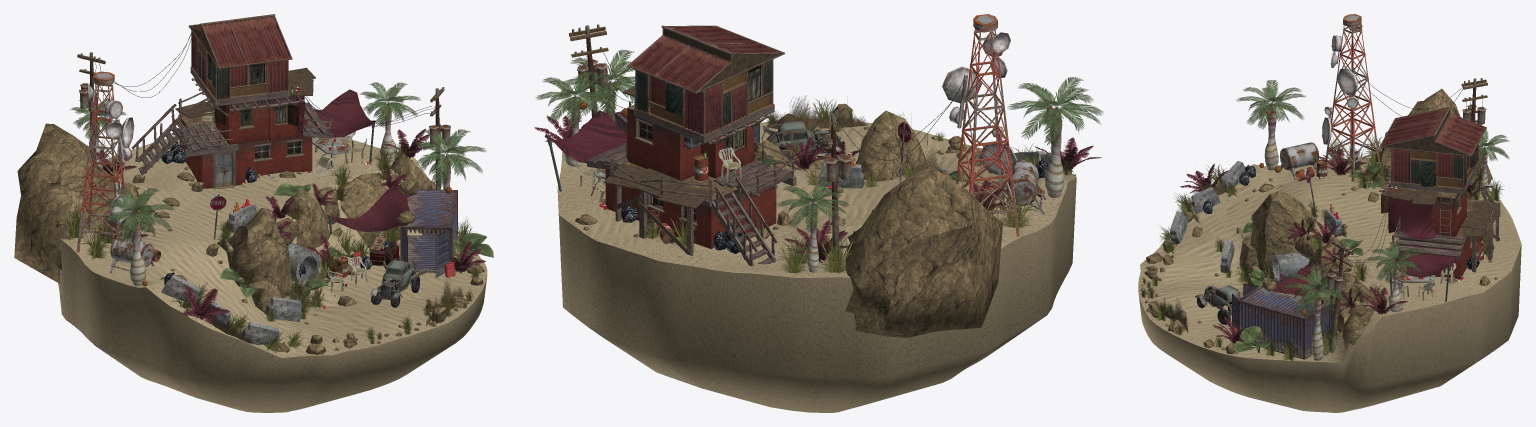
3 renders of one model, left to right at view 1: azimuth 30°, elevation 25°; view 2: azimuth 150°, elevation 25°; view 3: azimuth 270°, elevation 25°, orthographic. The views are drawn at different scales.
Parts seen in each view (by area): view 1: SM_Ground, SM_House, SM_Stone6, SM_RadioTower, SM_ShippingContainer, SM_Stone2, SM_PalmTree4, SM_PalmTree2, SM_Stone4, SM_PalmTree1, SM_Tarp, SM_Stone3 (+16 smaller); view 2: SM_Ground, SM_House, SM_Stone6, SM_RadioTower, SM_PalmTree4, SM_Stone2, SM_PalmTree1, SM_PalmTree3, SM_PalmTree2, SM_Car, SM_ElectricityPost1, SM_ElectricityPost (+6 smaller); view 3: SM_Ground, SM_House, SM_ShippingContainer, SM_RadioTower, SM_Stone2, SM_PalmTree4, SM_PalmTree2, SM_PalmTree1, SM_Stone6, SM_Car, SM_ElectricityPost, SM_OilTank (+14 smaller).
Part boxes in pixels (<box>): SM_Ground: <box>58,135,487,412</box>; SM_House: <box>131,14,376,189</box>; SM_Stone6: <box>14,123,119,283</box>; SM_RadioTower: <box>76,71,134,252</box>; SM_ShippingContainer: <box>400,189,457,277</box>; SM_Stone2: <box>227,208,290,297</box>; SM_PalmTree4: <box>102,187,175,285</box>; SM_PalmTree2: <box>411,129,486,189</box>; SM_Stone4: <box>332,172,400,247</box>; SM_PalmTree1: <box>360,82,420,159</box>; SM_Tarp: <box>325,187,410,235</box>; SM_Stone3: <box>287,189,329,250</box>; SM_Ground: <box>557,119,1076,412</box>; SM_House: <box>545,25,799,266</box>; SM_Stone6: <box>845,168,1002,337</box>; SM_RadioTower: <box>942,14,1019,236</box>; SM_PalmTree4: <box>1007,77,1103,197</box>; SM_Stone2: <box>855,110,927,181</box>; SM_PalmTree1: <box>535,70,614,166</box>; SM_PalmTree3: <box>776,180,849,272</box>; SM_PalmTree2: <box>563,49,635,121</box>; SM_Car: <box>761,121,845,155</box>; SM_ElectricityPost1: <box>825,109,852,261</box>; SM_ElectricityPost: <box>568,24,608,117</box>; SM_Ground: <box>1138,157,1521,412</box>; SM_House: <box>1379,106,1500,301</box>; SM_ShippingContainer: <box>1232,284,1330,359</box>; SM_RadioTower: <box>1322,14,1379,181</box>; SM_Stone2: <box>1250,190,1316,279</box>; SM_PalmTree4: <box>1237,80,1305,170</box>; SM_PalmTree2: <box>1281,265,1349,360</box>; SM_PalmTree1: <box>1366,241,1422,311</box>; SM_Stone6: <box>1376,88,1492,186</box>; SM_Car: <box>1195,285,1243,324</box>; SM_ElectricityPost: <box>1327,241,1353,353</box>; SM_OilTank: <box>1280,142,1319,179</box>.
Size of the model in its own units: 25.86 by 21.06 by 23.48.
Materials: 20 (20 with a texture image).
